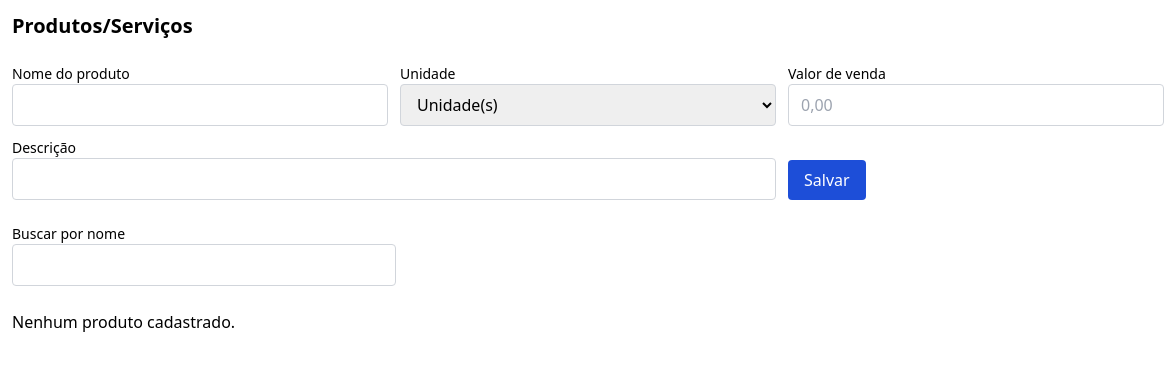
Scenario: ProdutosPage › exige nome e valor de venda válido
Click the button "Salvar". click: x=827, y=180
box: [788,160,866,200]
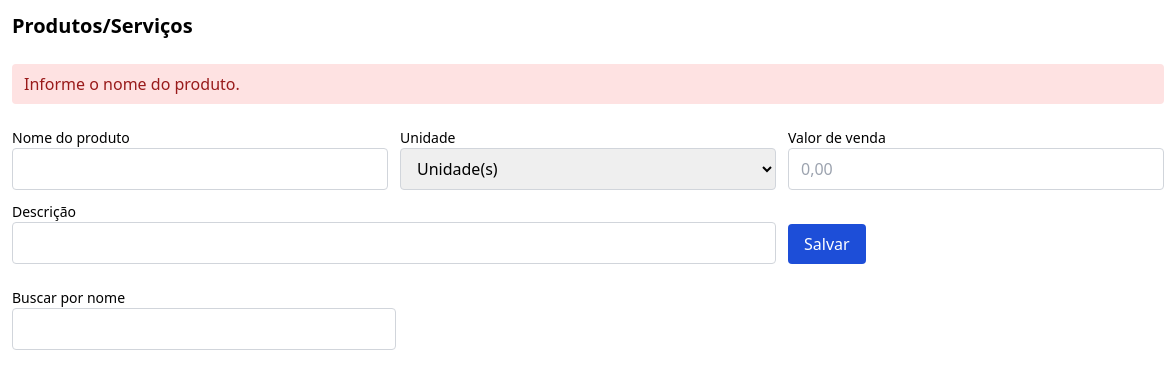
Check: the message shows "nome", box [24,73,240,95]
Type "X" into the field labelled "Nome do produto". click: x=200, y=169
box: [12,148,388,190]
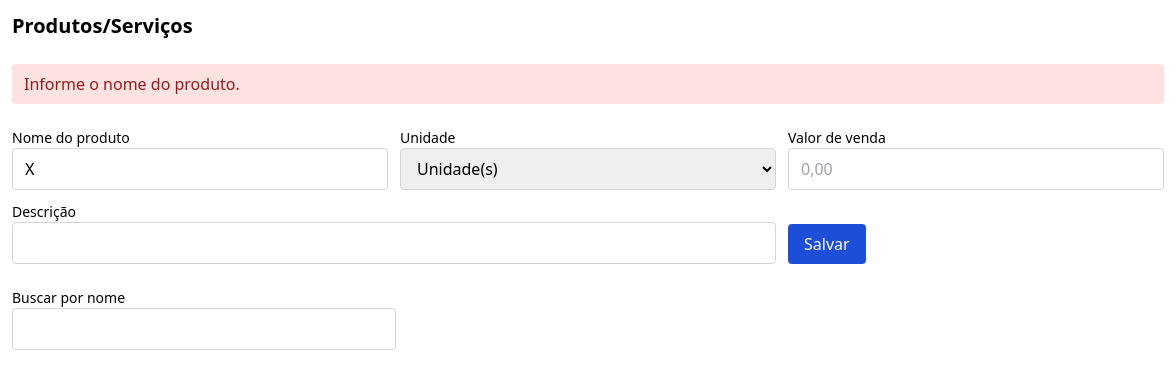
Type "abc" into the field labelled "Valor de venda". click: x=976, y=169
box: [788,148,1164,190]
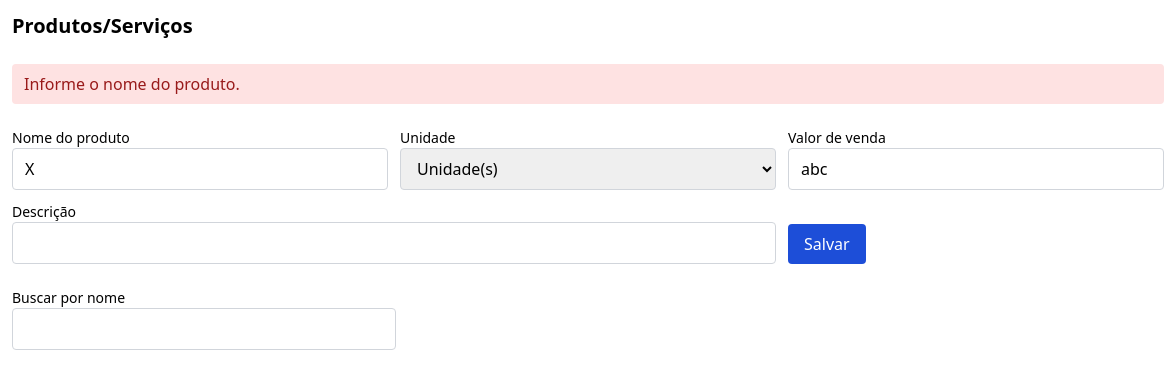
Click the button "Salvar". click: x=827, y=244
box: [788,224,866,264]
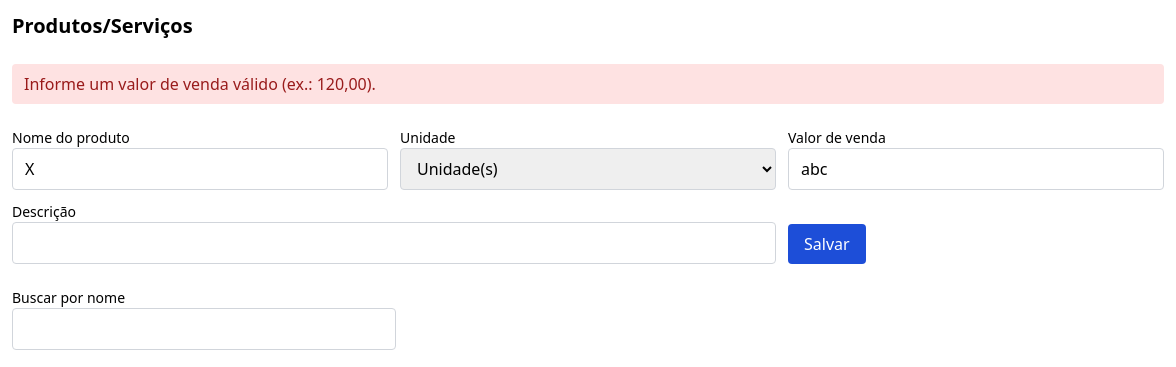
Check: the message shows "valor", box [24,73,376,95]
